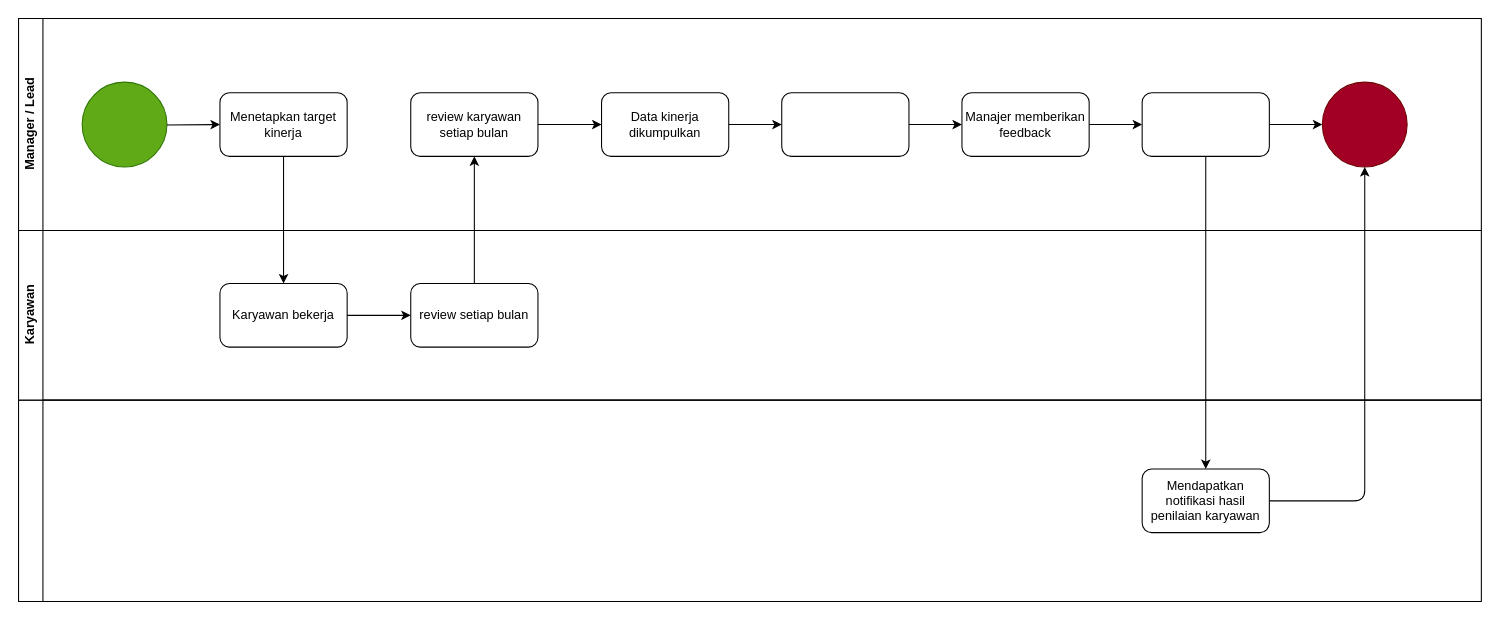
Some shapes in this 1500 by 620 pixel diagram are drawn without their labels. Here are the shapes that lost their labels. From the top down, the box of each, then its label:
(81, 81, 167, 167): startt
(781, 92, 909, 156): Sistem menampilkan penilaian
(1141, 92, 1269, 156): Sistem menyimpan penilaian
(1321, 81, 1407, 167): end
(17, 399, 1481, 602): HR
